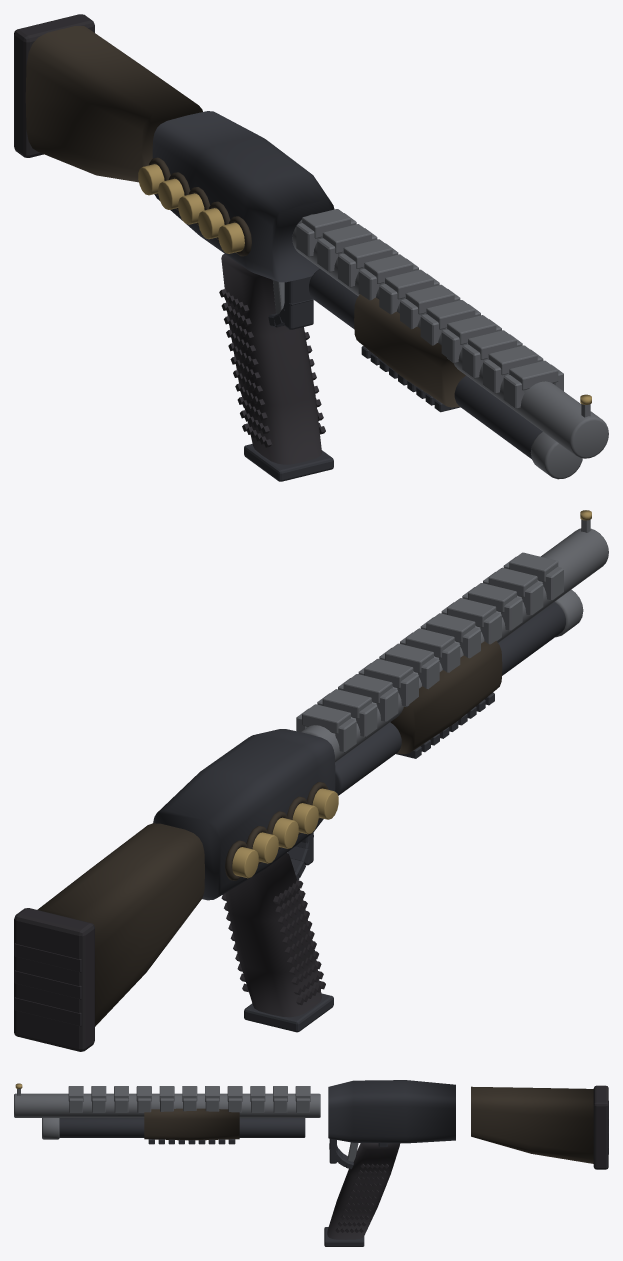
Rendered from weapon_shotgun_01_v1.glb.
3 renders of one model, top to bottom at view 1: azimuth 30°, elevation 25°; view 2: azimuth 150°, elevation 25°; view 3: azimuth 270°, elevation 25°, orthographic. The views are drawn at different scales.
Visible parts, largest first — view 1: shotgun_01; view 2: shotgun_01; view 3: shotgun_01.
Boxes of the visible parts, x1=… form: shotgun_01: x1=14, y1=14, x2=608, y2=481; shotgun_01: x1=14, y1=510, x2=608, y2=1051; shotgun_01: x1=14, y1=1080, x2=608, y2=1246.
Bounding box in the file's own units: 0.046 × 0.1369 × 0.4752.
